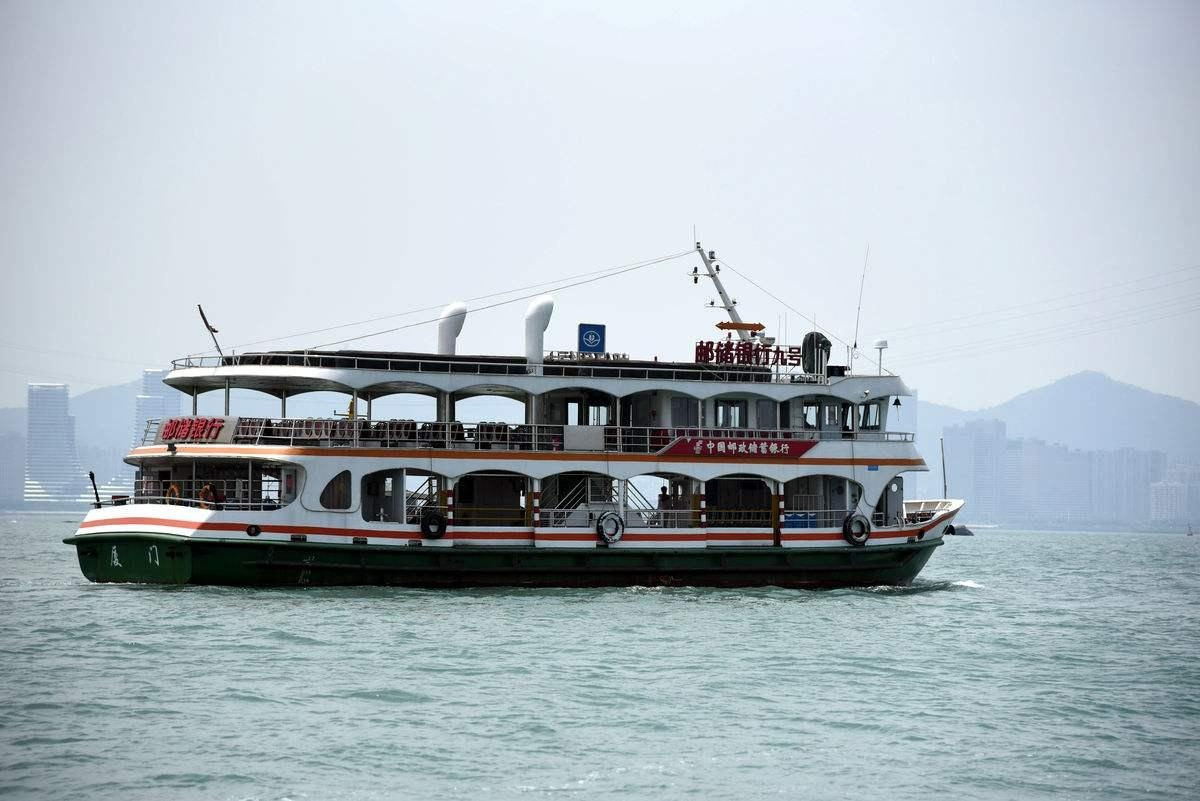youlun: (70, 240, 955, 589)
